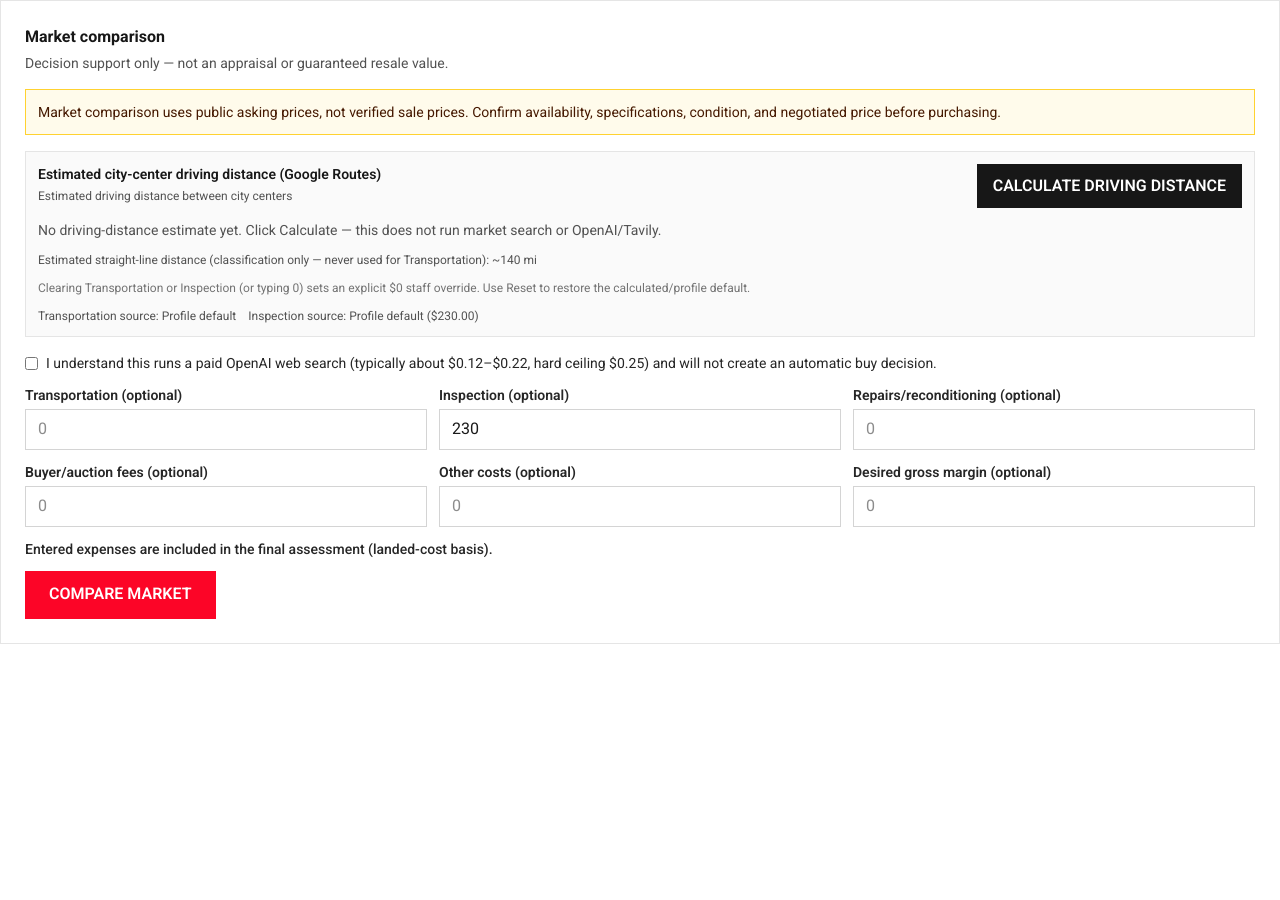
Test: Market Comparison Transportation autopopulate › decimal mileage rounds only the final currency amount
The width and height of the screenshot is (1280, 900).
Step 1. Click the button with test id "calculate-driving-distance" → (1109, 186), box [977,164,1242,208]
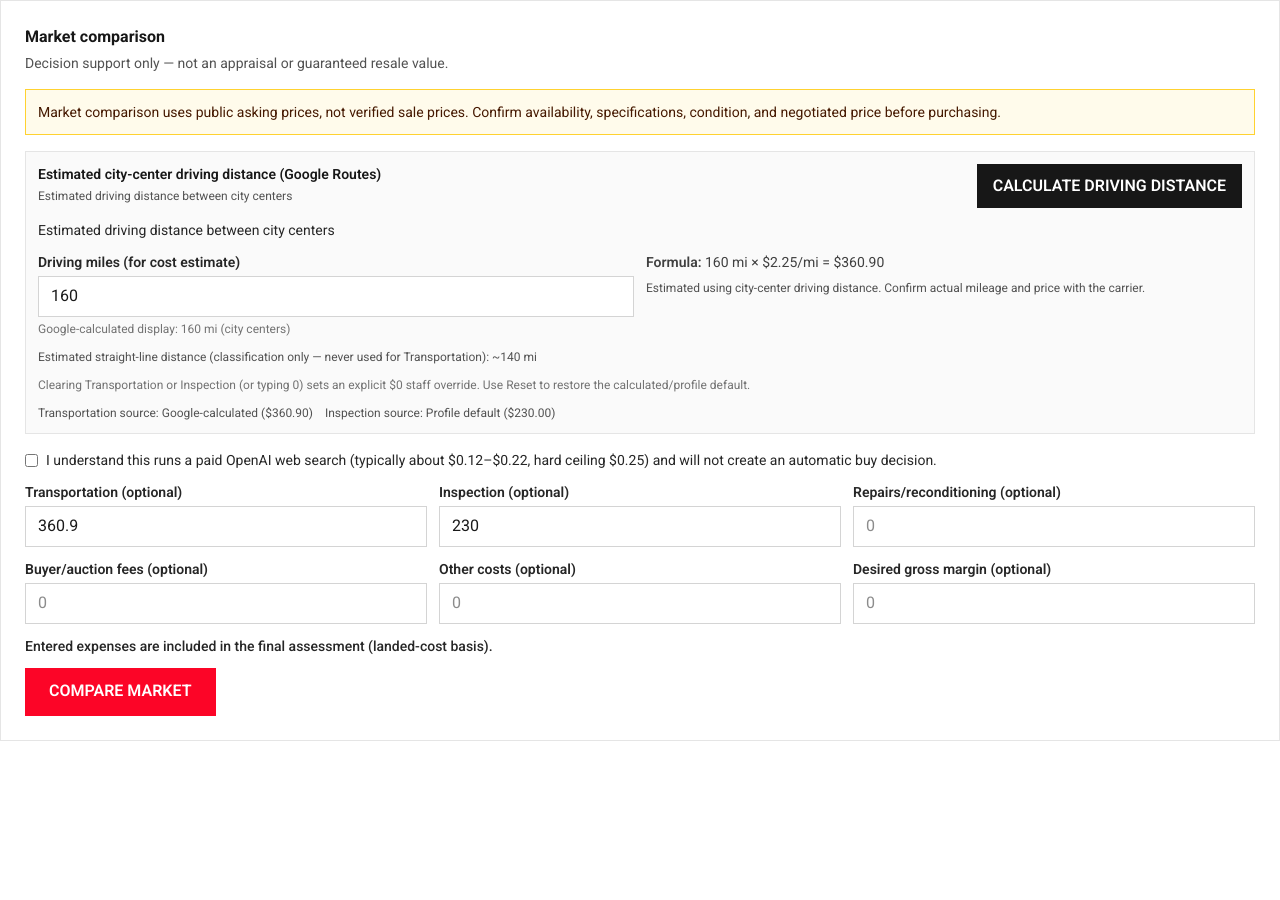
Now the number field with test id "cost-input-transportation" holds "360.9", box [25,506,427,547]
Now the element with test id "transportation-formula" shows "160 mi × $2.25/mi = $360.90", box [705,254,884,270]
